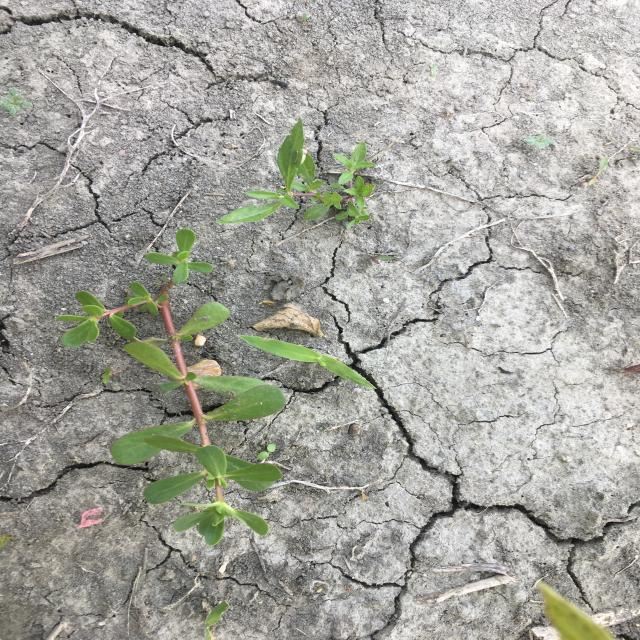Eclipta: (212, 118, 380, 228)
Purslane: (53, 227, 289, 547)
